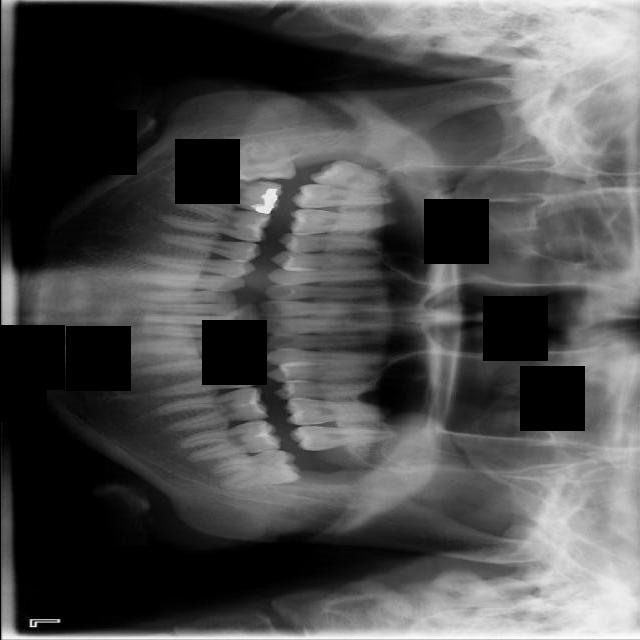3M ESPE Implant: (307, 158, 391, 193)
52: (240, 178, 283, 217), (238, 180, 261, 187)
73: (14, 624, 17, 628)
BioHorizons Implant: (288, 427, 400, 451)
Biomet 3i Implant: (208, 447, 301, 494)
Blue Sky Bio Implant: (176, 417, 282, 464)
Caries: (290, 182, 395, 209)
Implant: (175, 171, 281, 215)
Keystone Dental Implant: (225, 138, 297, 184)
